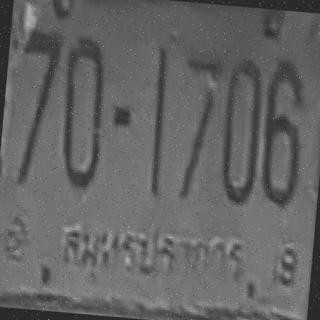N00: (216, 56, 264, 204)
N07: (18, 26, 63, 116)
P57: (51, 208, 250, 293)
